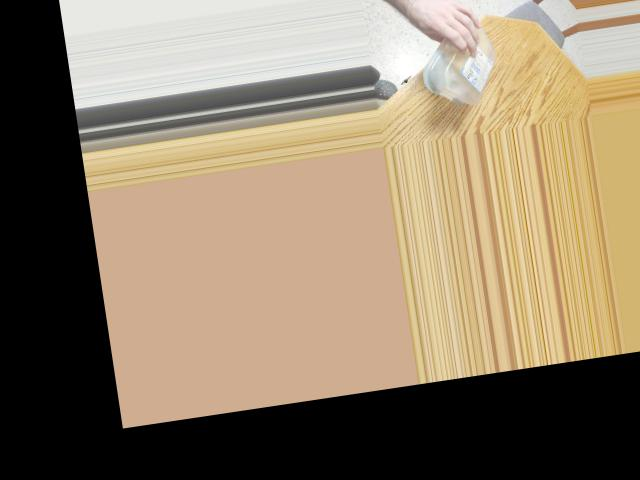cheese: (418, 6, 504, 112)
